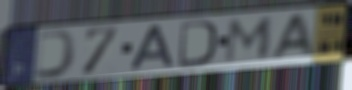7: (82, 24, 121, 77)
A: (266, 11, 317, 62), (127, 24, 177, 72)
D: (32, 29, 79, 81), (177, 18, 219, 70)
M: (222, 16, 276, 65)
